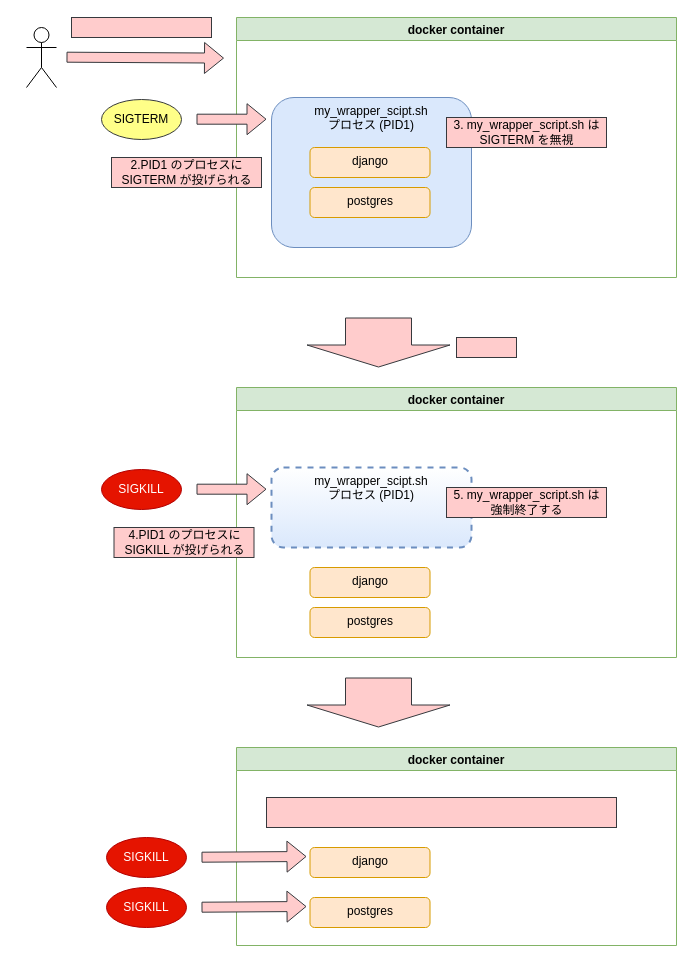
Some shapes in this 694 by 963 pixel diagram are drawn without their labels. The shapes that lost their labels are listed below. From the top down, each one's centre as x and y in pixels, then its label:
pixel 141 27: 1.docker compose stop
pixel 41 57: ユーザー
pixel 486 347: 4.10秒後
pixel 441 812: 6. PID1 のプロセスが kill された後コンテナは停止のために コンテナ内すべてのプロセス(django, postgres)を強制終了する
